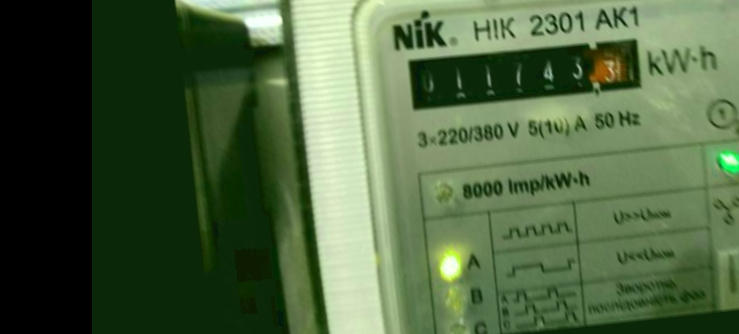0: (421, 66, 438, 95)
1: (482, 59, 497, 88), (453, 63, 466, 91)
3: (571, 52, 588, 81), (603, 58, 619, 84)
4: (541, 56, 558, 84)
7: (511, 56, 529, 85)
screen: (397, 23, 657, 124)
